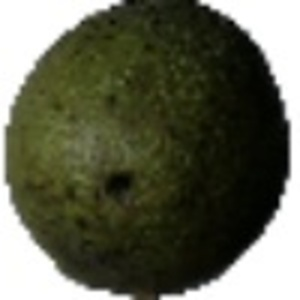abacate: (1, 2, 291, 293)
